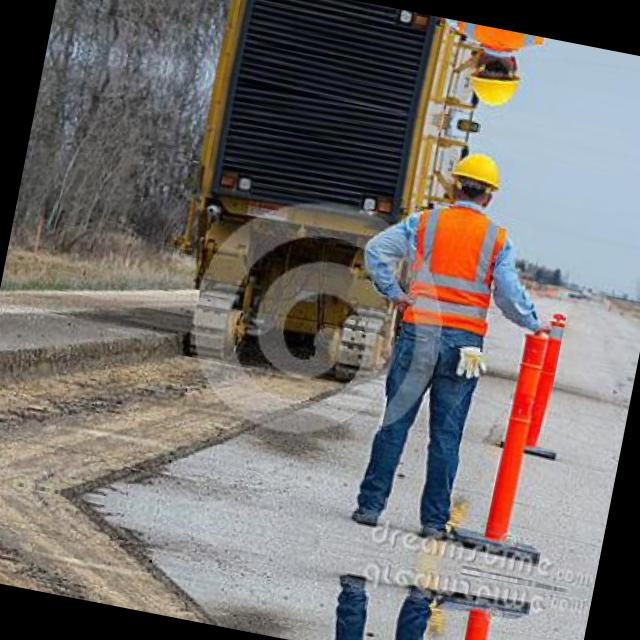helmet: (438, 138, 512, 214), (456, 42, 530, 117)
